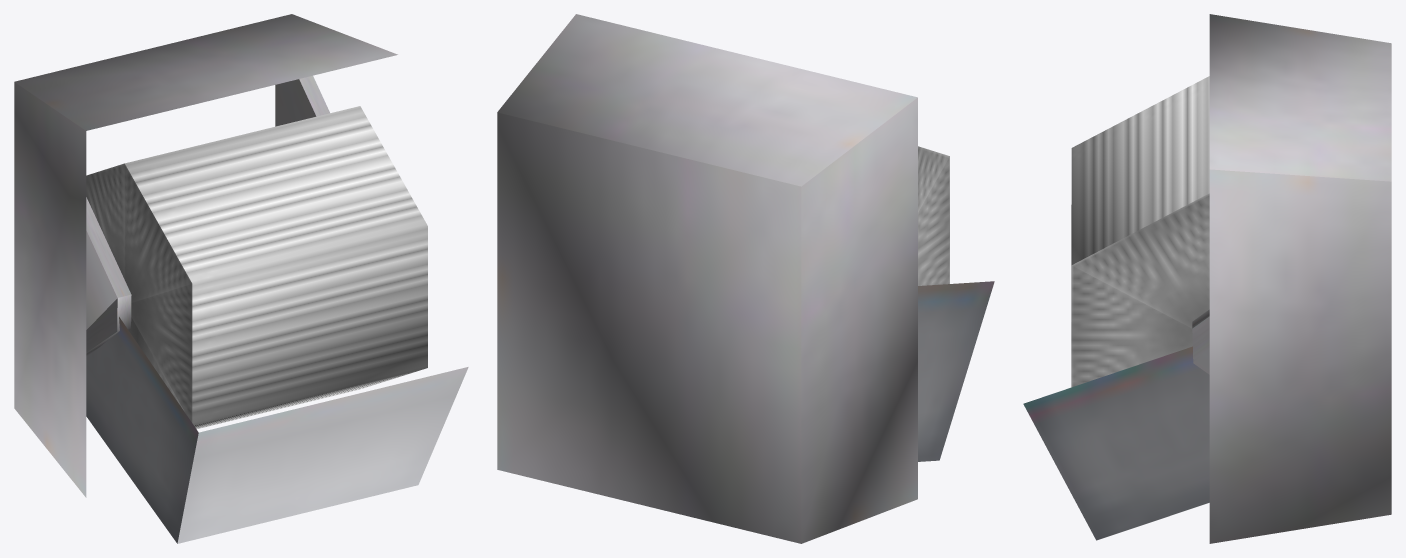
Rendered from rollodex.glb.
3 views of the same model, side by side, from view 1: azimuth 30°, elevation 25°; view 2: azimuth 150°, elevation 25°; view 3: azimuth 270°, elevation 25° (orthographic). The views are drawn at different scales.
Parts seen in each view (by area): view 1: roll-o-dex; view 2: roll-o-dex; view 3: roll-o-dex.
Boxes of the visible parts, x1=… form: roll-o-dex: x1=14, y1=14, x2=468, y2=543; roll-o-dex: x1=497, y1=14, x2=994, y2=543; roll-o-dex: x1=1023, y1=14, x2=1391, y2=543.
Size of the model in its own units: 0.7998 by 0.9328 by 0.8014.
4 materials, 4 textured.
